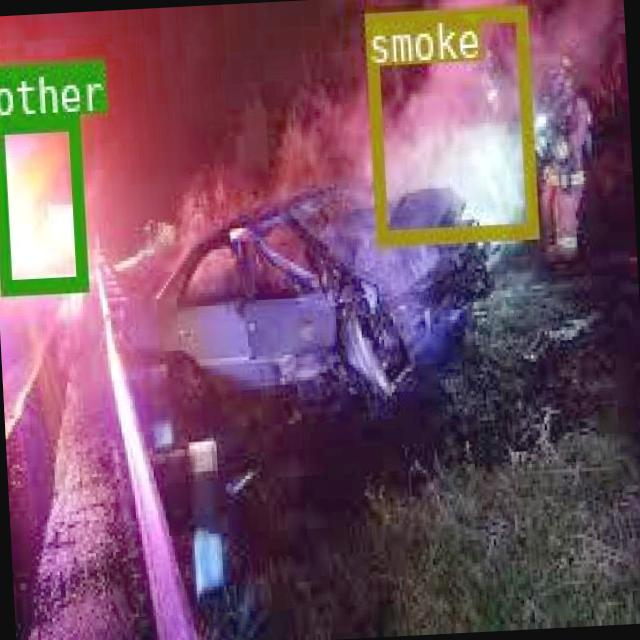smoke: (364, 5, 536, 244)
